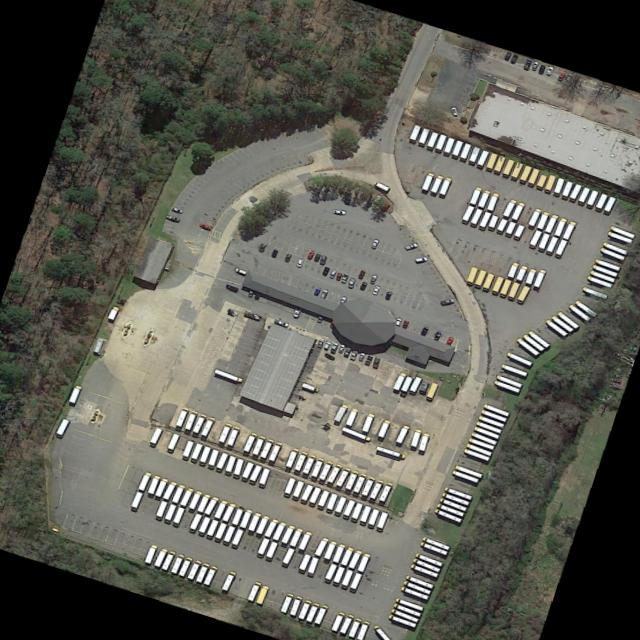large-vehicle: (515, 335, 539, 355), (388, 606, 418, 621), (553, 309, 578, 327), (548, 313, 573, 331), (525, 328, 550, 346), (341, 425, 370, 440), (566, 302, 590, 320), (543, 317, 567, 335), (401, 578, 429, 593), (432, 506, 460, 521), (443, 484, 471, 499), (572, 298, 596, 315), (519, 332, 543, 349), (404, 573, 433, 587), (408, 562, 437, 576), (434, 501, 463, 515), (437, 496, 466, 510), (391, 601, 420, 615), (386, 612, 415, 626), (212, 367, 241, 381), (411, 556, 439, 570), (418, 540, 446, 554), (420, 534, 448, 548), (440, 490, 468, 504), (453, 463, 481, 477), (463, 441, 491, 455), (478, 407, 506, 421), (481, 402, 509, 416), (374, 444, 404, 457), (414, 551, 441, 565), (607, 223, 634, 237), (468, 430, 495, 444), (504, 350, 531, 364), (399, 585, 428, 598), (394, 596, 422, 609), (601, 240, 627, 254), (461, 447, 488, 460), (466, 436, 493, 449), (584, 274, 611, 287), (592, 257, 619, 270), (492, 379, 519, 392), (471, 424, 498, 437), (474, 419, 501, 432), (476, 414, 503, 427), (493, 373, 520, 386), (499, 362, 526, 375), (580, 285, 606, 298), (598, 246, 624, 259), (190, 411, 206, 432), (146, 425, 161, 447), (229, 456, 244, 478), (247, 462, 262, 484), (451, 468, 476, 481), (590, 262, 615, 275), (371, 624, 391, 640), (160, 479, 176, 499), (219, 569, 235, 589), (300, 452, 316, 472), (187, 511, 202, 532), (220, 500, 235, 521), (170, 481, 185, 502), (312, 602, 327, 623), (296, 597, 311, 618), (245, 579, 260, 600), (185, 558, 200, 579), (159, 548, 174, 569), (359, 474, 374, 495), (325, 461, 340, 482), (199, 414, 214, 435), (179, 438, 193, 460), (205, 446, 219, 468), (270, 520, 286, 539), (338, 612, 353, 632), (329, 610, 344, 630), (152, 545, 167, 565), (213, 451, 228, 471), (241, 430, 256, 450), (588, 269, 613, 281), (322, 561, 336, 582), (339, 567, 353, 588), (304, 600, 318, 621), (278, 591, 292, 612), (202, 563, 216, 584), (188, 441, 202, 462), (368, 477, 382, 498), (351, 471, 365, 492), (323, 491, 337, 512), (315, 488, 329, 509), (306, 484, 320, 505), (225, 423, 239, 444), (267, 439, 281, 460), (290, 478, 303, 500), (282, 475, 295, 497), (197, 443, 210, 465), (605, 230, 631, 241), (347, 548, 362, 567), (296, 530, 311, 549), (393, 423, 408, 442), (531, 267, 546, 286), (501, 196, 516, 215), (575, 185, 590, 204), (280, 546, 294, 566), (220, 524, 234, 544), (296, 552, 310, 572), (254, 513, 268, 533), (330, 565, 344, 585), (136, 469, 150, 489), (176, 555, 190, 575), (239, 460, 253, 480), (377, 480, 391, 500), (334, 465, 348, 485), (298, 482, 312, 502), (259, 436, 273, 456), (355, 550, 369, 570), (339, 544, 353, 564), (182, 408, 196, 428), (216, 421, 230, 441), (251, 433, 265, 453), (552, 237, 566, 257), (561, 218, 575, 238), (355, 618, 368, 639), (230, 503, 243, 524), (169, 551, 182, 572), (309, 455, 322, 476), (284, 445, 297, 466), (333, 494, 346, 515), (256, 466, 269, 487), (174, 405, 187, 426), (332, 402, 347, 420), (601, 195, 616, 213), (203, 494, 217, 513), (187, 489, 201, 508), (178, 485, 192, 504), (263, 517, 277, 536), (292, 449, 306, 468), (54, 416, 68, 435), (313, 535, 327, 554), (288, 525, 302, 544), (408, 427, 422, 446), (517, 164, 531, 183), (515, 284, 529, 303), (497, 277, 511, 296), (489, 274, 503, 293), (480, 271, 494, 290), (584, 188, 598, 207), (526, 206, 540, 225), (527, 228, 541, 247), (543, 212, 557, 231), (468, 206, 482, 225), (459, 203, 473, 222), (255, 536, 268, 556), (204, 517, 217, 537), (171, 505, 184, 525), (162, 502, 175, 522), (129, 489, 142, 509), (196, 491, 209, 511), (348, 571, 361, 591), (347, 616, 360, 636), (287, 594, 300, 614), (143, 542, 156, 562), (247, 510, 260, 530), (165, 432, 178, 452), (344, 468, 357, 488), (341, 498, 354, 518), (318, 458, 331, 478), (360, 411, 373, 431), (509, 160, 522, 180), (525, 166, 538, 186), (560, 178, 573, 198), (544, 234, 557, 254), (536, 231, 549, 251), (477, 209, 490, 229), (552, 215, 565, 235), (366, 507, 378, 528), (223, 453, 235, 474), (280, 523, 294, 541), (593, 192, 607, 210), (509, 200, 523, 218), (374, 509, 386, 530), (229, 527, 242, 546), (212, 521, 225, 540), (196, 515, 209, 534), (238, 507, 251, 526), (213, 498, 226, 517), (153, 476, 166, 495), (146, 473, 159, 492), (322, 538, 335, 557), (376, 417, 389, 436), (344, 406, 357, 425), (500, 157, 513, 176), (491, 154, 504, 173), (484, 151, 497, 170), (441, 135, 454, 154), (424, 130, 437, 149), (472, 268, 485, 287), (485, 190, 498, 209), (477, 187, 490, 206), (438, 175, 451, 194), (429, 173, 442, 192), (420, 170, 433, 189), (535, 209, 548, 228), (305, 555, 317, 575), (264, 539, 276, 559), (195, 561, 207, 581), (358, 504, 370, 524), (349, 501, 361, 521), (398, 375, 411, 393), (67, 383, 80, 401), (331, 542, 344, 560), (568, 182, 581, 200), (551, 176, 564, 194), (154, 499, 166, 518), (424, 380, 436, 399), (417, 430, 429, 449), (467, 144, 479, 163), (458, 141, 470, 160), (408, 122, 420, 141), (506, 280, 518, 299), (465, 264, 477, 283), (468, 184, 480, 203), (408, 375, 421, 392), (494, 216, 507, 233), (255, 583, 266, 603), (475, 149, 487, 167), (450, 138, 462, 156), (433, 133, 445, 151), (416, 126, 428, 144), (543, 173, 555, 191), (514, 263, 527, 279), (503, 219, 515, 236), (506, 259, 518, 276), (511, 222, 523, 239), (534, 173, 546, 189), (486, 213, 498, 229), (106, 304, 118, 318), (524, 266, 534, 282), (300, 381, 317, 390)
small-vehicle: (370, 179, 388, 190), (163, 212, 179, 221), (402, 241, 418, 250), (272, 317, 288, 326), (347, 347, 358, 360), (378, 201, 390, 212), (290, 304, 301, 316), (327, 340, 337, 353), (321, 350, 334, 360), (341, 345, 351, 358), (168, 204, 182, 213), (370, 354, 379, 368), (317, 287, 328, 298), (555, 69, 565, 81), (370, 283, 380, 295), (536, 62, 545, 75), (438, 297, 454, 304), (508, 52, 518, 63), (369, 237, 379, 248), (311, 250, 321, 261), (543, 64, 553, 75), (362, 353, 372, 364), (355, 267, 365, 278), (345, 276, 355, 287), (311, 285, 321, 296), (522, 56, 531, 68), (225, 306, 237, 315), (315, 335, 324, 347), (336, 341, 345, 353), (233, 265, 246, 273), (224, 283, 237, 291), (338, 271, 348, 281), (529, 59, 538, 70), (318, 253, 327, 264), (418, 324, 427, 335), (444, 334, 453, 345), (257, 241, 266, 252), (251, 290, 262, 299), (321, 339, 330, 350), (400, 318, 409, 329), (368, 273, 377, 284), (382, 289, 391, 300), (331, 207, 345, 214), (412, 255, 428, 261), (197, 221, 209, 229), (448, 105, 457, 115), (294, 256, 303, 266), (269, 247, 278, 257), (320, 264, 329, 274), (315, 312, 324, 322), (333, 270, 342, 280), (432, 329, 440, 340), (358, 280, 366, 291), (327, 267, 335, 278), (305, 249, 314, 258), (282, 252, 291, 261), (502, 50, 510, 60), (393, 316, 401, 326), (339, 294, 347, 304), (357, 350, 364, 360), (246, 287, 253, 296)
